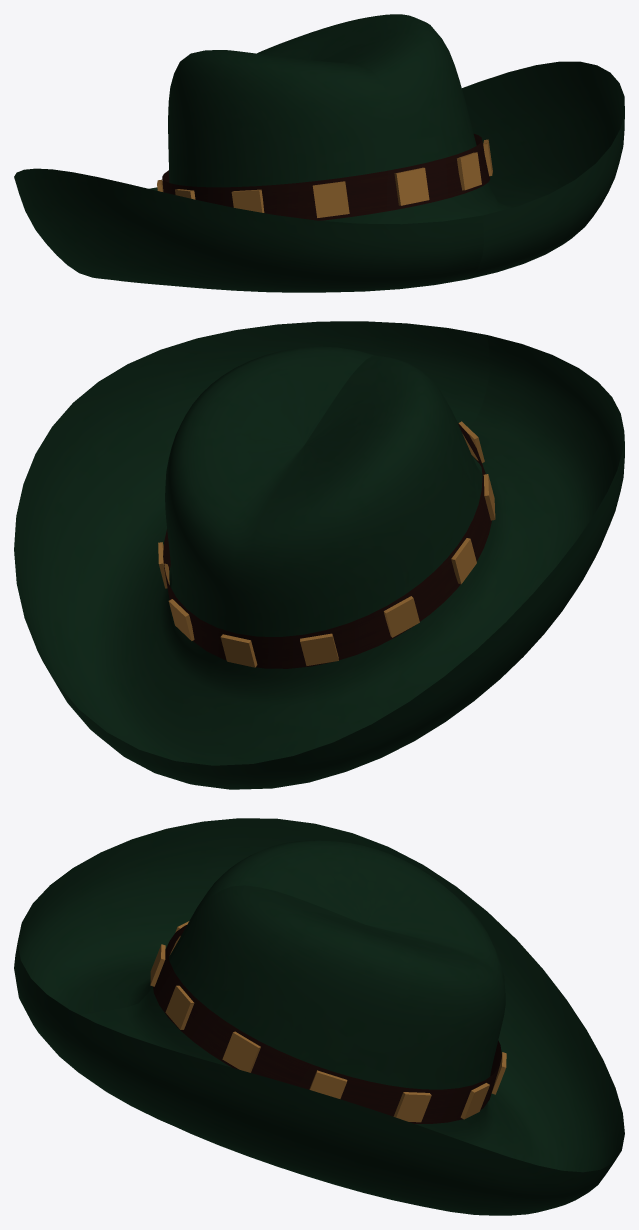
File: hat.bronze-band.gltf
3 views of the same model, one above another, from view 1: azimuth 30°, elevation 25°; view 2: azimuth 150°, elevation 25°; view 3: azimuth 270°, elevation 25° (orthographic). The views are drawn at different scales.
Parts seen in each view (by area): view 1: Head; view 2: Head; view 3: Head.
Boxes of the visible parts, x1,y1,x2,y2 form: Head: [14, 14, 624, 292]; Head: [14, 321, 624, 789]; Head: [14, 818, 624, 1215].
Size of the model in its own units: 0.3867 by 0.2159 by 0.3984.
1 material, 1 textured.
